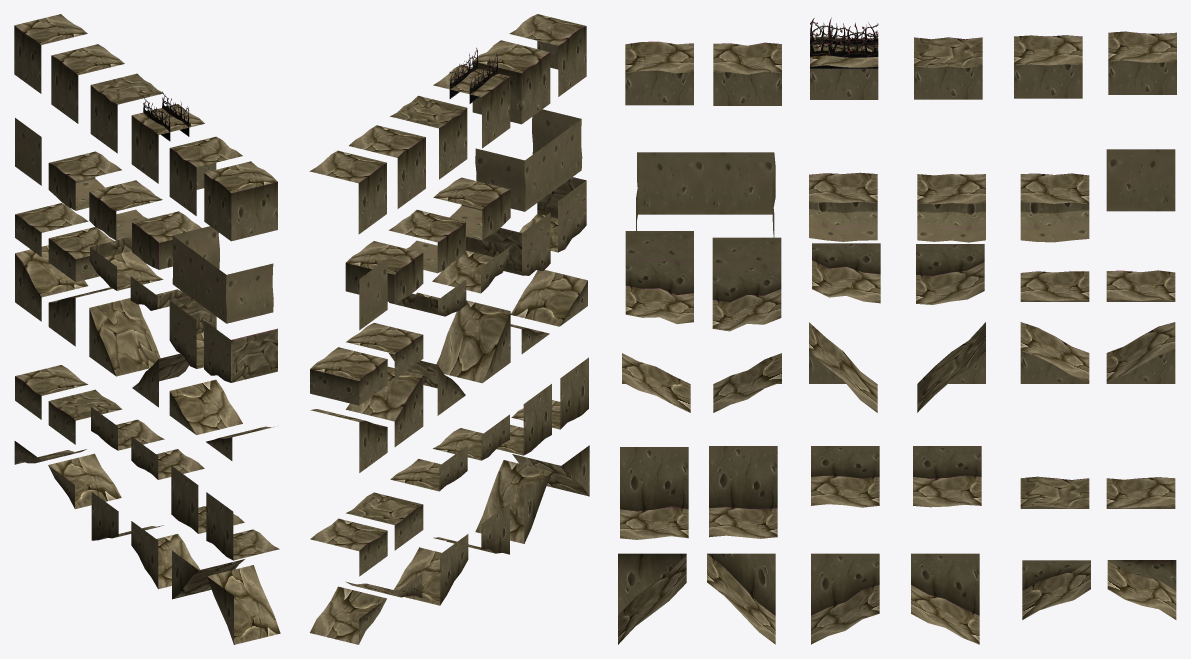
The model's file is tiles_nvl1.FBX.
3 views of the same model, side by side, from view 1: azimuth 30°, elevation 25°; view 2: azimuth 150°, elevation 25°; view 3: azimuth 270°, elevation 25° (orthographic). The views are drawn at different scales.
Visible parts, largest first — view 1: tl1_corner_1R_MESH, tl1_slope_10L_MESH, tl1_fall_1R_MESH, tl1_slopeover_10R_MESH, tl1_cornerover_1R_MESH, tl1_corner_1L_MESH, tl1_slope_05L_MESH, tl1_mid1_1_MESH, tl1_mid0_1_MESH, tl1_flyM_MESH, tl1_slope_15L_MESH, tl1_mid3_1_MESH (+26 smaller); view 2: tl1_slope_10R_MESH, tl1_corner_1L_MESH, tl1_fall_1L_MESH, tl1_corner_5L_MESH, tl1_slopeover_10L_MESH, tl1_corner_1R_MESH, tl1_slope_05R_MESH, tl1_flyL_MESH, tl1_slope_15R_MESH, tl1_flyR_MESH, tl1_mid1_1_MESH, tl1_mid0_1_MESH (+26 smaller); view 3: tl1_over1_1_MESH, tl1_over2_1_MESH, tl1_cornerover_1L_MESH, tl1_cornerover_1R_MESH, tl1_slopeover_15L_MESH, tl1_slopeover_15R_MESH, tl1_flyL_MESH, tl1_flyR_MESH, tl1_flyM_MESH, tl1_fall_1L_MESH, tl1_plane, tl1_fall_1R_MESH (+26 smaller).
Part boxes in pixels (box(x1,y1,x2,y2)): tl1_corner_1R_MESH: box(204, 161, 277, 241); tl1_slope_10L_MESH: box(89, 298, 160, 376); tl1_fall_1R_MESH: box(199, 255, 273, 323); tl1_slopeover_10R_MESH: box(207, 565, 280, 644); tl1_cornerover_1R_MESH: box(204, 320, 277, 382); tl1_corner_1L_MESH: box(169, 136, 242, 215); tl1_slope_05L_MESH: box(169, 379, 242, 434); tl1_mid1_1_MESH: box(51, 44, 124, 123); tl1_mid0_1_MESH: box(14, 14, 87, 93); tl1_flyM_MESH: box(89, 180, 162, 240); tl1_slope_15L_MESH: box(15, 245, 88, 321); tl1_mid3_1_MESH: box(90, 73, 163, 153); tl1_slope_10R_MESH: box(436, 300, 510, 383); tl1_corner_1L_MESH: box(472, 40, 550, 124); tl1_fall_1L_MESH: box(475, 140, 553, 211); tl1_corner_5L_MESH: box(310, 347, 387, 405); tl1_slopeover_10L_MESH: box(475, 460, 552, 543); tl1_corner_1R_MESH: box(509, 14, 586, 96); tl1_slope_05R_MESH: box(510, 270, 587, 326); tl1_flyL_MESH: box(345, 241, 423, 303); tl1_slope_15R_MESH: box(346, 366, 423, 446); tl1_flyR_MESH: box(433, 177, 510, 240); tl1_mid1_1_MESH: box(349, 125, 425, 208); tl1_mid0_1_MESH: box(309, 150, 386, 234); tl1_over1_1_MESH: box(709, 446, 777, 538); tl1_over2_1_MESH: box(620, 447, 688, 539); tl1_cornerover_1L_MESH: box(712, 237, 781, 331); tl1_cornerover_1R_MESH: box(625, 231, 693, 324); tl1_slopeover_15L_MESH: box(911, 553, 979, 644); tl1_slopeover_15R_MESH: box(811, 553, 879, 644); tl1_flyL_MESH: box(1020, 173, 1089, 242); tl1_flyR_MESH: box(809, 172, 877, 241); tl1_flyM_MESH: box(917, 174, 985, 242); tl1_fall_1L_MESH: box(705, 152, 775, 240); tl1_plane: box(1106, 149, 1175, 211); tl1_fall_1R_MESH: box(636, 152, 705, 240).
Bounding box in the file's own units: 100 × 979 × 814.
